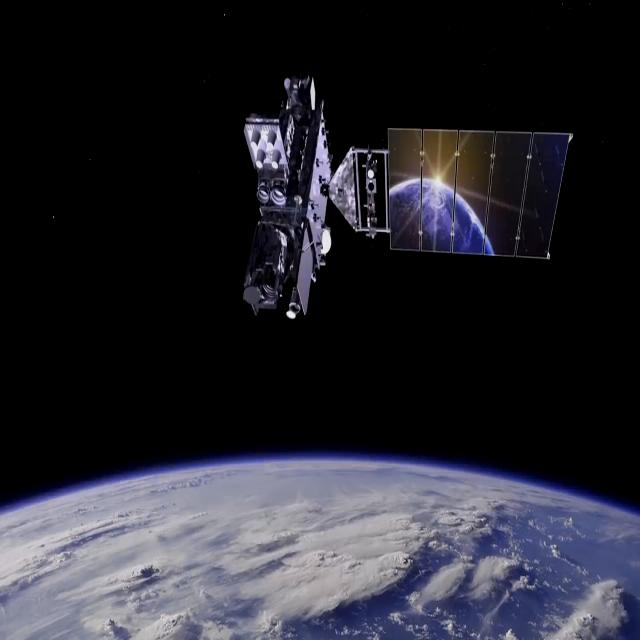medium_debris: (223, 19, 597, 368)
